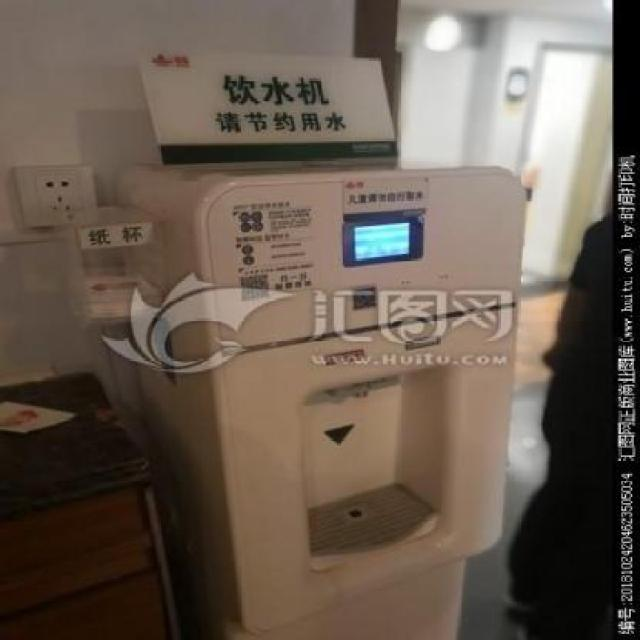cooler: (122, 158, 533, 640)
